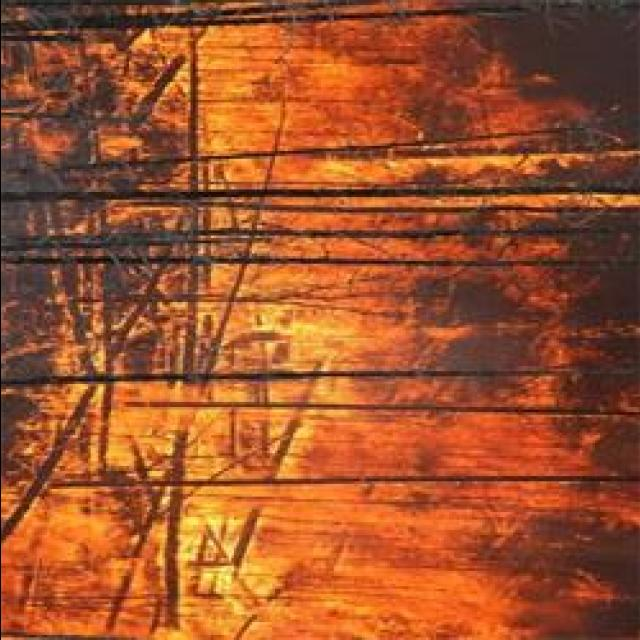fire: (285, 319, 375, 370)
